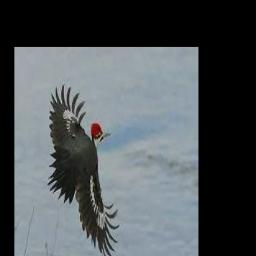Woodpecker: (47, 83, 120, 256)
